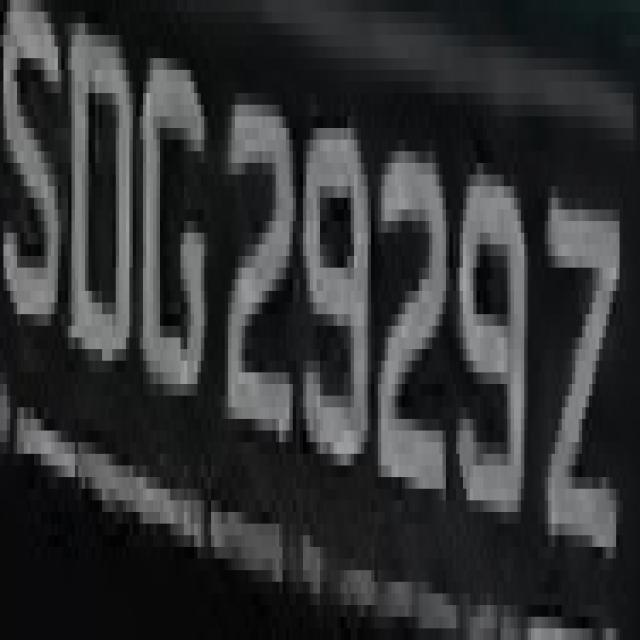2: (371, 105, 446, 535), (228, 58, 303, 454)
9: (456, 151, 541, 559), (296, 93, 375, 512)
D: (64, 24, 140, 408)
G: (140, 47, 204, 442)
S: (3, 23, 75, 396)
Z: (538, 128, 619, 570)
